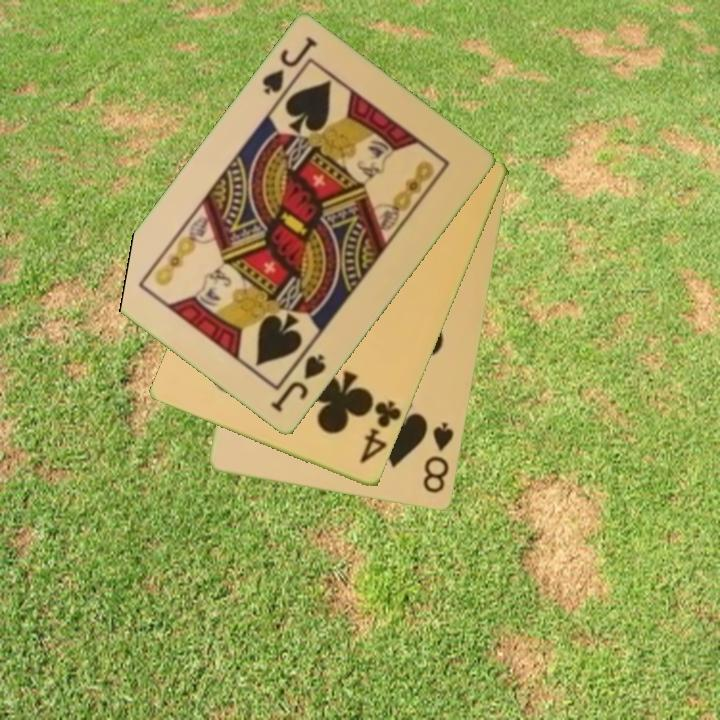4c: (356, 397, 405, 467)
8s: (420, 419, 457, 497)
Js: (258, 33, 321, 99), (267, 350, 329, 416)
